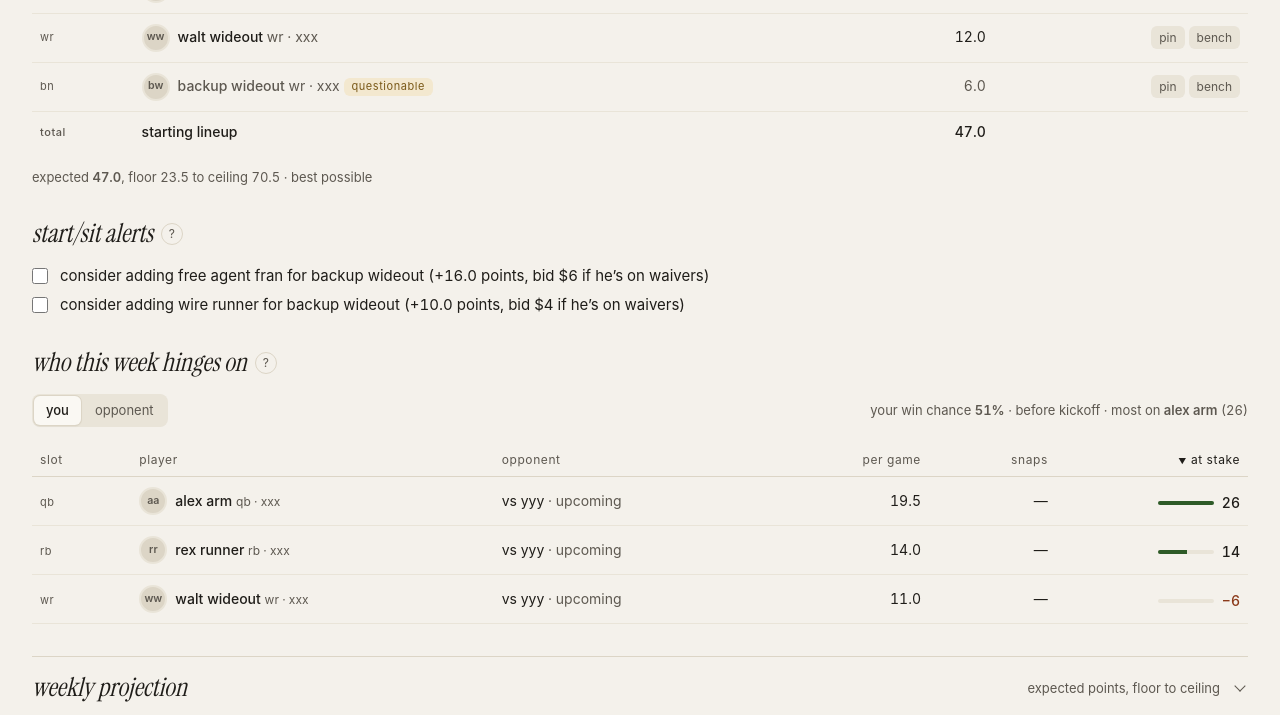
Test: who this week hinges on (locker room) › has an info tip on how it is computed
This screenshot has width=1280, height=715.
(page scrolled)
expect the heading "who this week hinges on" is shown: met, box [32,348,247,378]
What coordinates should you click on to do the following:
click the button named "about who this week hinges on"
I would click on:
 (266, 363)
Its box is [255,352,277,374].
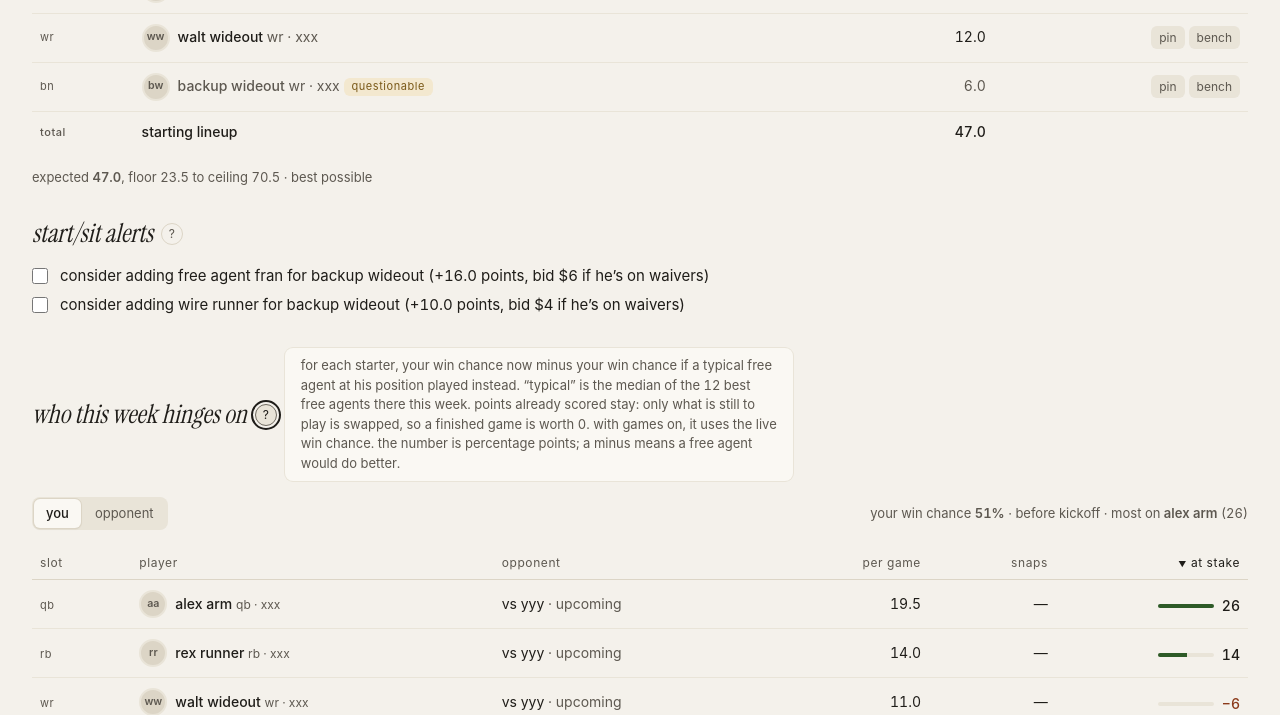
expect the text "median of the 12 best free agents" is shown: met, box [301,357,777,471]
